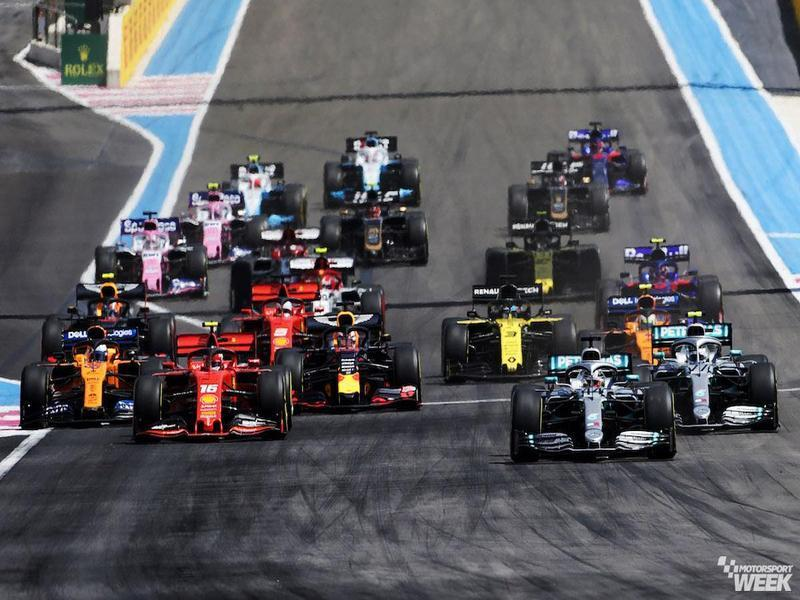f1: (506, 332, 679, 465), (639, 306, 787, 437), (127, 330, 295, 441), (16, 324, 177, 428), (441, 270, 587, 378), (277, 321, 429, 424), (311, 185, 455, 274), (89, 213, 211, 301), (503, 142, 617, 232), (608, 235, 727, 320), (320, 121, 430, 208), (480, 221, 608, 292)
